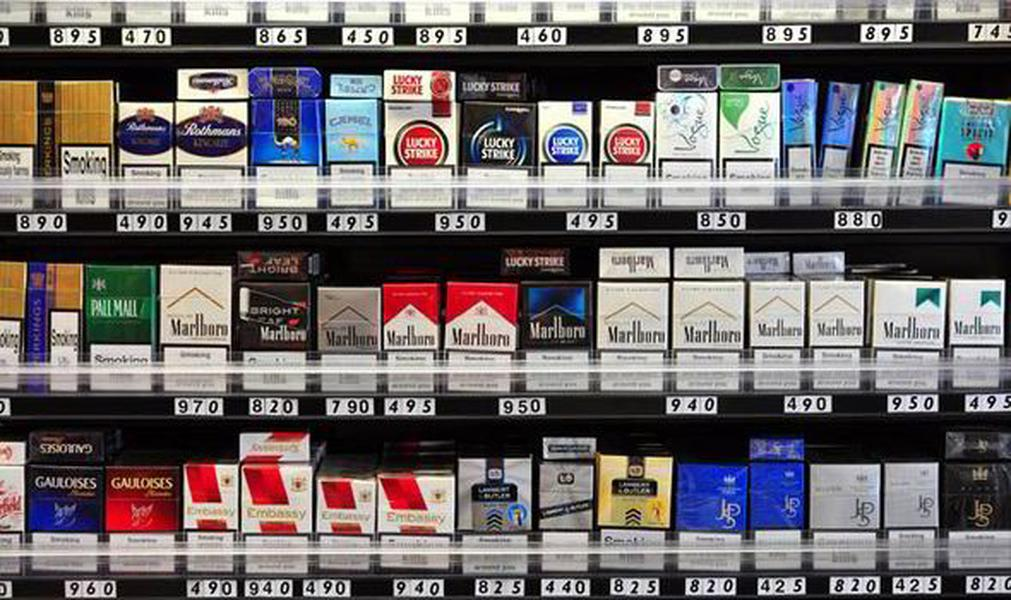lucky_strike_blue: (539, 104, 590, 206)
lucky_strike_red: (385, 104, 453, 209), (603, 102, 650, 208)
marlboro_gold: (160, 265, 229, 394), (673, 281, 743, 392), (599, 283, 669, 390), (811, 285, 864, 388), (752, 285, 803, 390)
marlboro_red: (446, 287, 513, 394), (385, 287, 436, 392)
